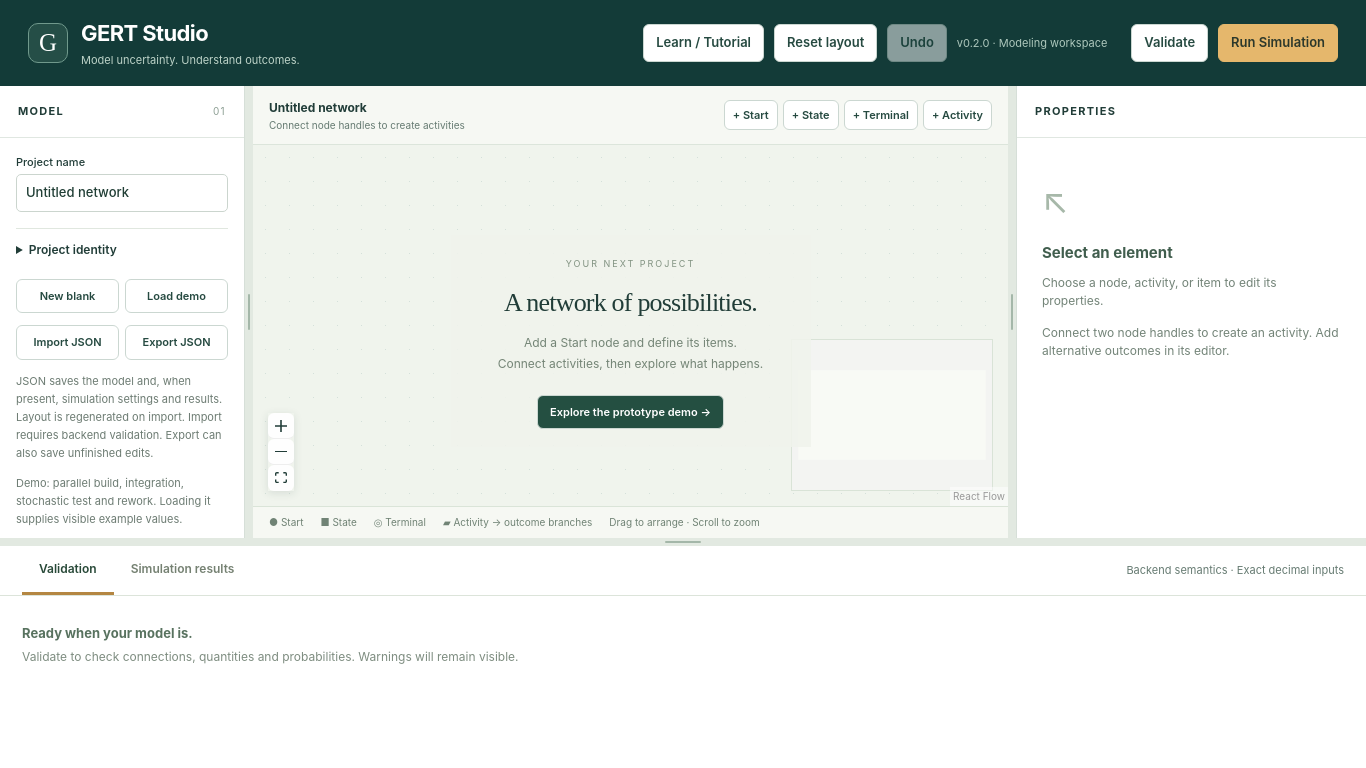
modeling workspace › renders server errors/warnings/info and navigates the affected property
Click the button "Load demo" at coordinates (176, 296), box [125,278,228,313]
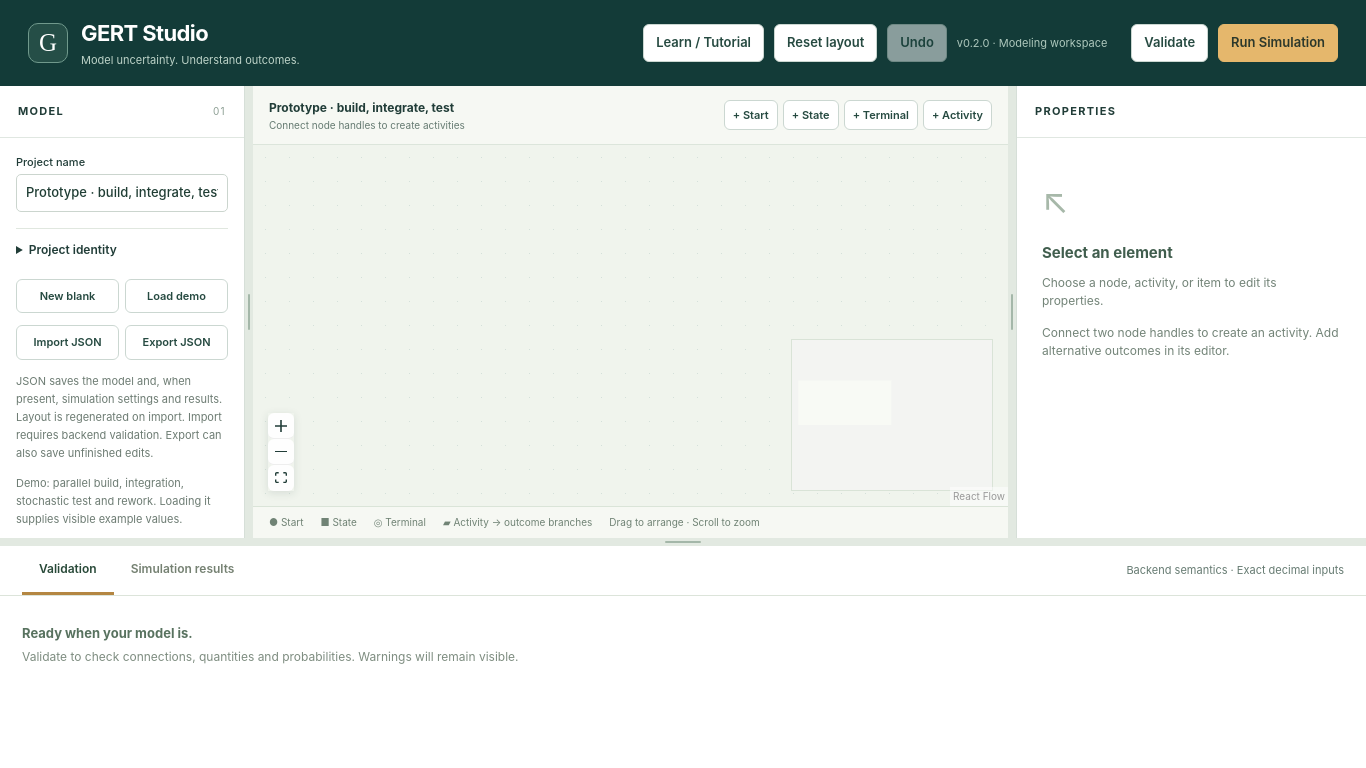
Click the button "Validate" at coordinates (1170, 43), box [1131,24,1208,62]
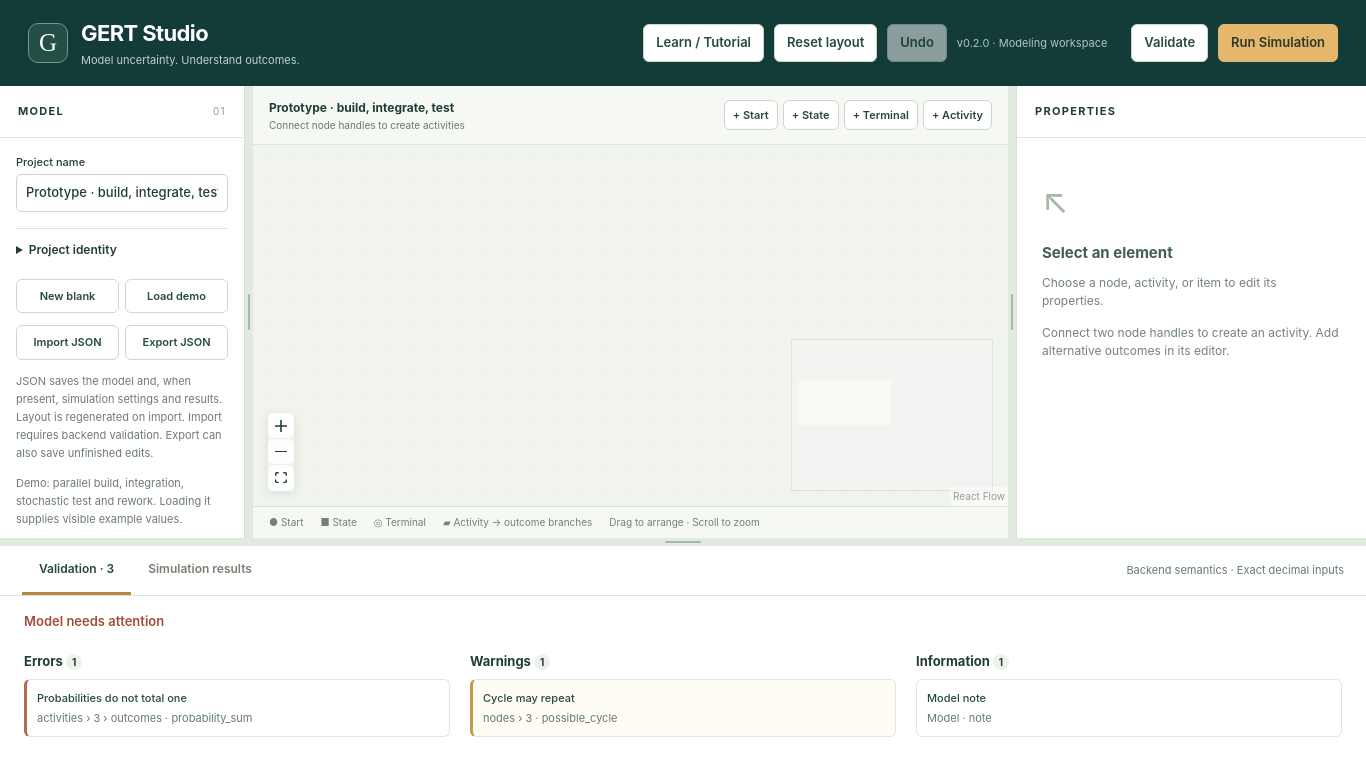
Now the text "Model needs attention" is shown, box [24,613,164,629]
Now the text "Cycle may repeat" is shown, box [483,691,575,705]
Now the text "Model note" is shown, box [927,691,986,705]
Click the button "Probabilities do not total one activities › 3 › outcomes · probability_sum" at coordinates (237, 708), box [24,679,450,737]
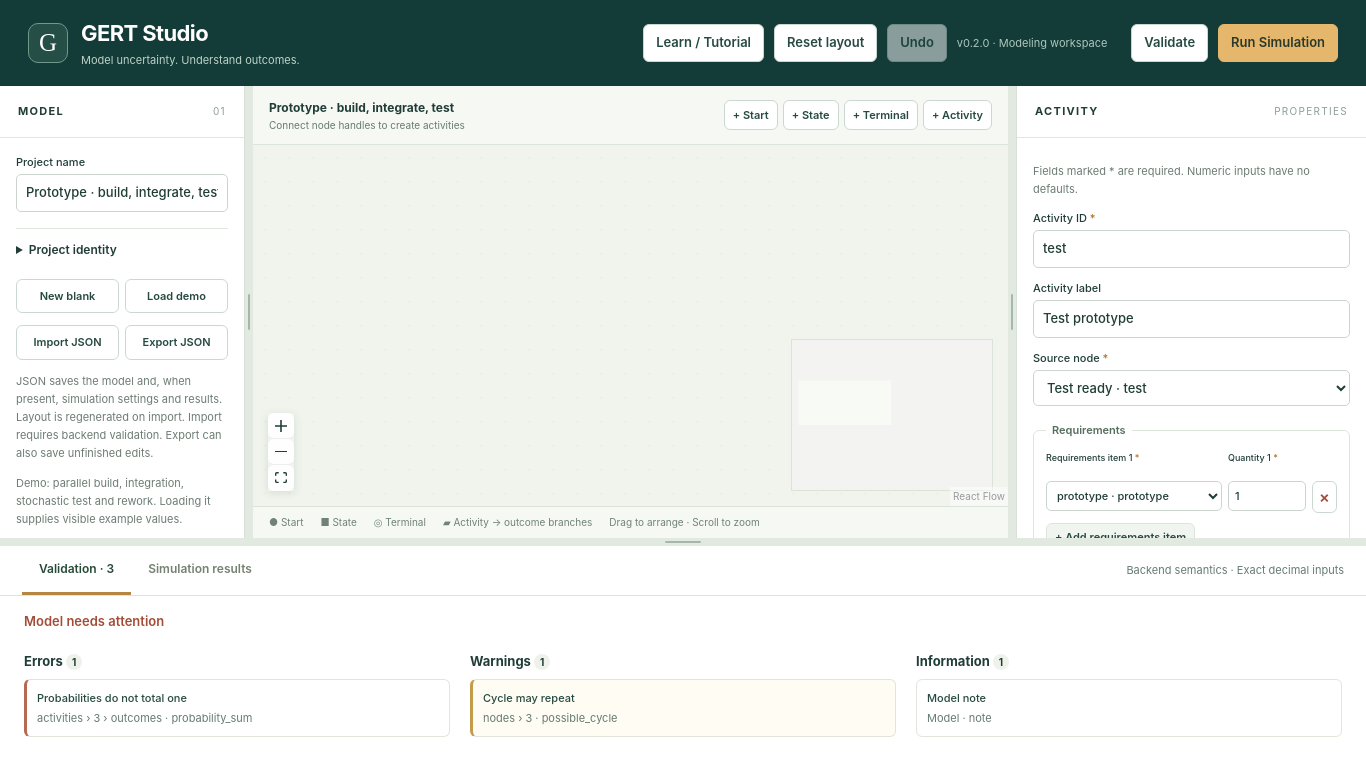
Now the field labelled "Activity ID *" holds "test", box [1033,230,1350,268]
